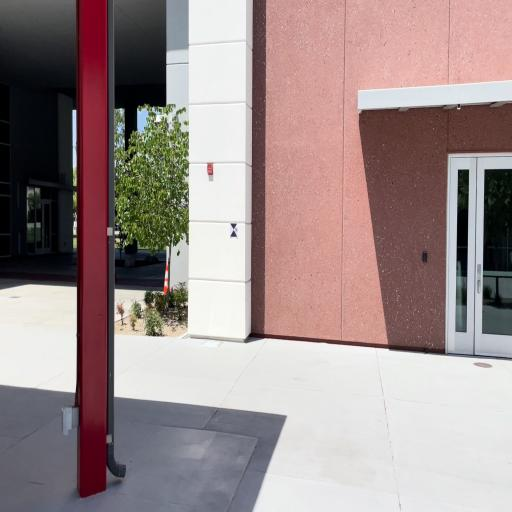target9: (230, 223, 238, 238)
